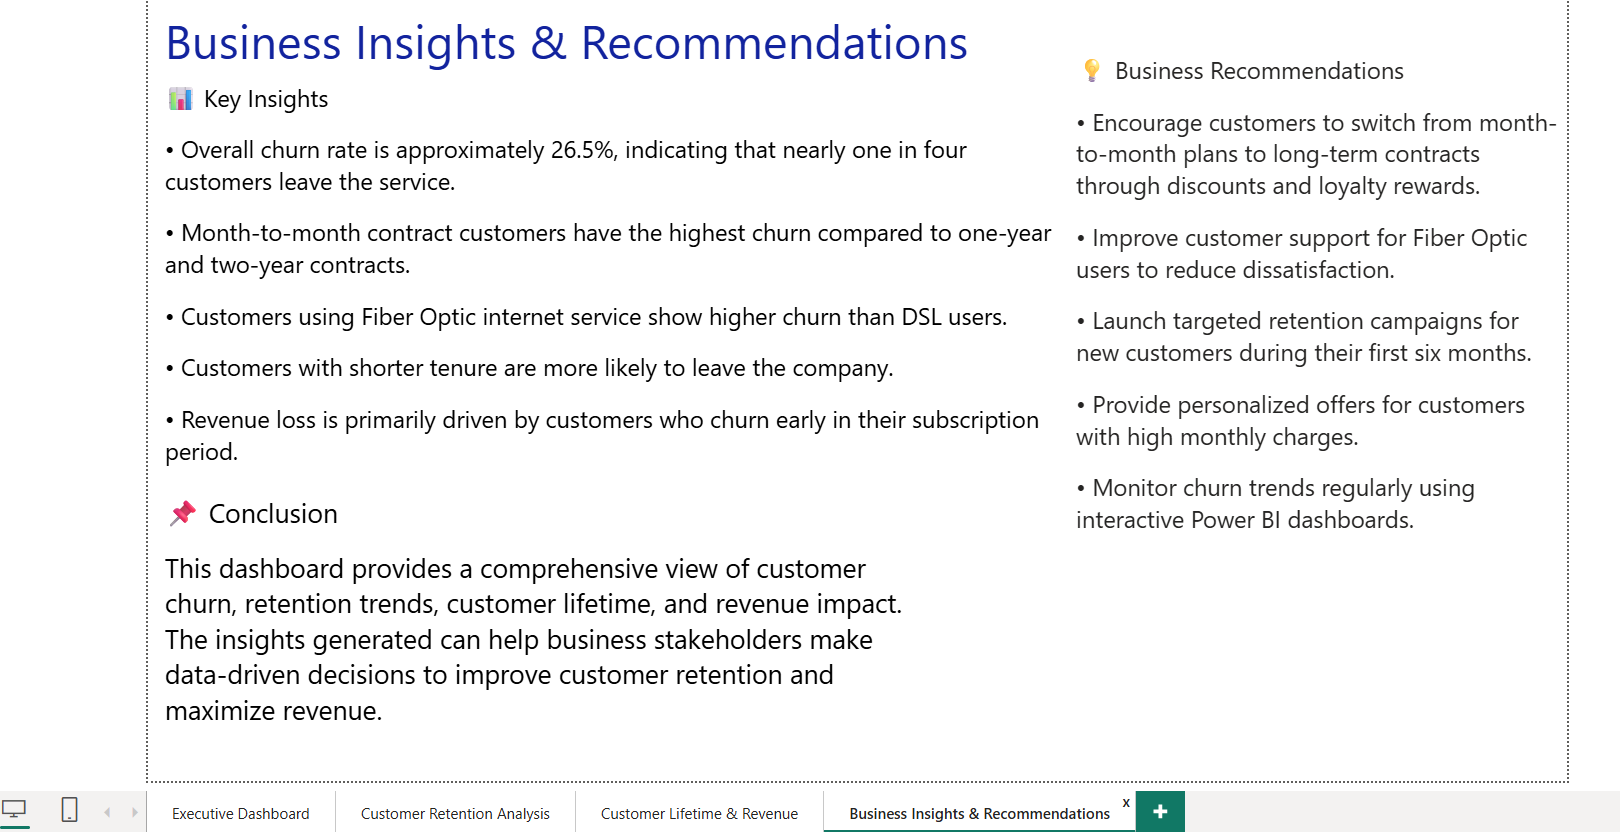

This screenshot's page, from the dashboard's own definition file:
{"tool":"powerbi","page":{"name":"Business Insights & Recommendations","canvas":[1280,720],"ordinal":3},"visuals":[{"type":"textbox","box":[9.6,16.5,809.6,83.7],"z":0},{"type":"textbox","box":[9.6,83.7,811,636.7],"z":1},{"type":"textbox","box":[831.6,59,448.7,661.4],"z":2},{"type":"textbox","box":[9.6,456.9,710.8,263.5],"z":3}]}

Visuals, with their boxes on the page's 1280x720 design canvas (x1, y1, x2, y2). These are canvas units, not pixel positions in the 1620x832 screenshot, which may show the page scaled, cropped or inside an application window:
textbox: locate(10, 16, 819, 100)
textbox: locate(10, 84, 821, 720)
textbox: locate(832, 59, 1280, 720)
textbox: locate(10, 457, 720, 720)
